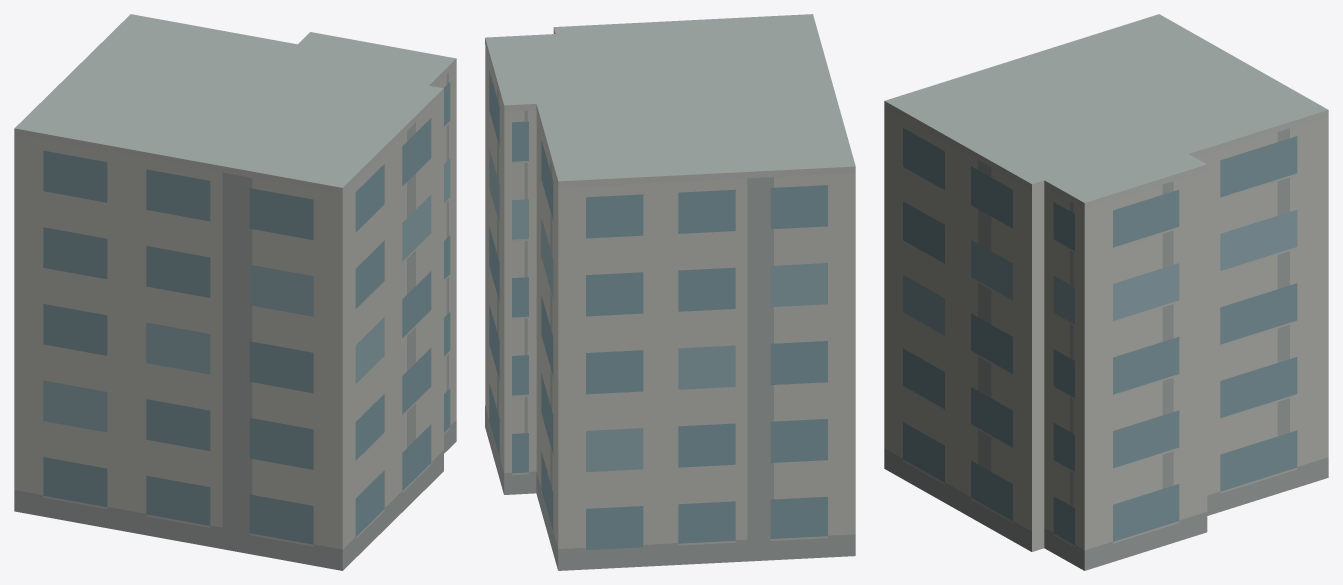
Rendered from residential-4b6da9c8-d414-43aa-8441-ea6bba0cc987.glb.
The picture shows the model from 3 angles, left to right: view 1: azimuth 30°, elevation 25°; view 2: azimuth 150°, elevation 25°; view 3: azimuth 270°, elevation 25°; orthographic projection. The views are drawn at different scales.
Visible parts, largest first — view 1: residential-4b6da9c8-d414-43aa-8441-ea6bba0cc987.tmp; view 2: residential-4b6da9c8-d414-43aa-8441-ea6bba0cc987.tmp; view 3: residential-4b6da9c8-d414-43aa-8441-ea6bba0cc987.tmp.
Part boxes in pixels (box(x1,y1,x2,y2)): residential-4b6da9c8-d414-43aa-8441-ea6bba0cc987.tmp: box(14, 14, 456, 570); residential-4b6da9c8-d414-43aa-8441-ea6bba0cc987.tmp: box(485, 14, 855, 570); residential-4b6da9c8-d414-43aa-8441-ea6bba0cc987.tmp: box(884, 14, 1328, 570).
Bounding box in the file's own units: 16.1 × 14.6 × 15.98.
